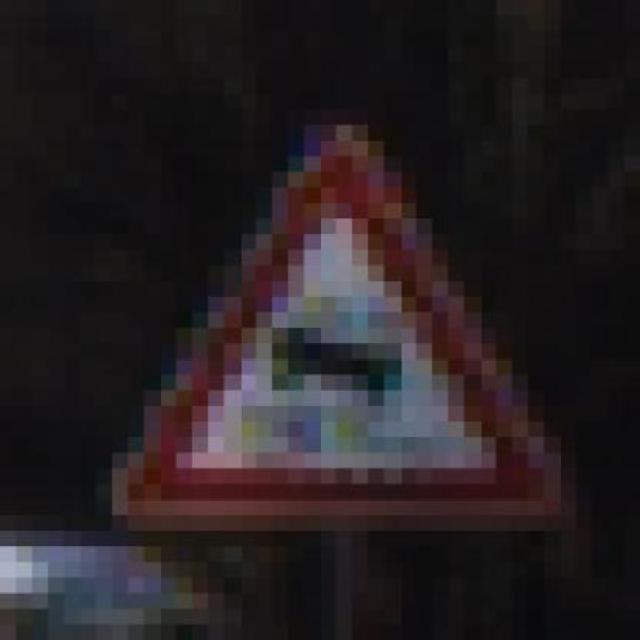Slippery Road Ahead: (112, 109, 560, 562)
